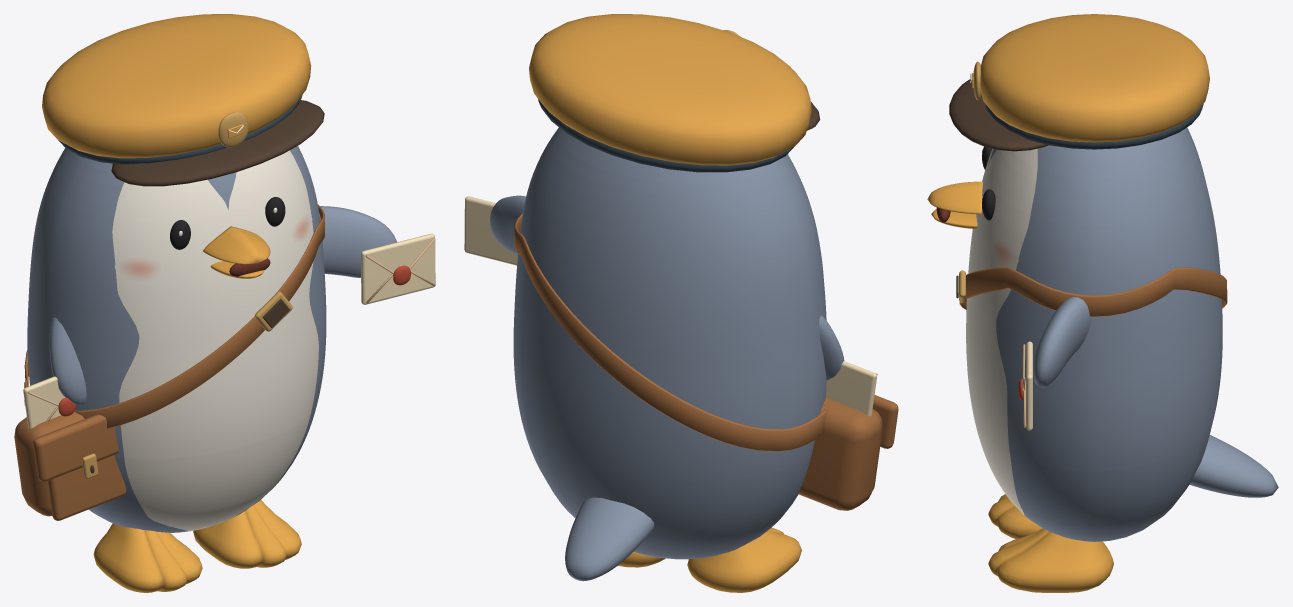
The model's file is post-penguin-low.glb.
3 views of the same model, side by side, from view 1: azimuth 30°, elevation 25°; view 2: azimuth 150°, elevation 25°; view 3: azimuth 270°, elevation 25° (orthographic). The views are drawn at different scales.
Parts seen in each view (by area): view 1: Penguin continuous body and heart mask, Cap.Ochre postal cap.batch, Bag.Cognac postal leather.batch, Dark curved peak, Continuous webbed foot L, Postal shoulder strap, Continuous webbed foot R, Delivered letter paper, Flipper.R, Beak.penguin accent.batch, Flipper.L, BodyRig.Soft integrated cheek tint.batch (+4 smaller); view 2: Penguin continuous body and heart mask, Cap.Ochre postal cap.batch, Postal shoulder strap, Bag.Cognac postal leather.batch, Penguin rooted tapered tail, Continuous webbed foot L, Delivered letter paper, Navy cap band, Letter in satchel paper, Flipper.R, Flipper.L; view 3: Penguin continuous body and heart mask, Cap.Ochre postal cap.batch, Continuous webbed foot R, Postal shoulder strap, Penguin rooted tapered tail, Flipper.R, Dark curved peak, Beak.penguin accent.batch, Navy cap band, Continuous webbed foot L, Delivered letter paper, BodyRig.Soft integrated cheek tint.batch (+1 smaller).
Boxes of the visible parts, left/top/right/bottom form: Penguin continuous body and heart mask: left=27, top=146, right=326, bottom=532; Cap.Ochre postal cap.batch: left=42, top=14, right=311, bottom=158; Bag.Cognac postal leather.batch: left=14, top=411, right=126, bottom=520; Dark curved peak: left=111, top=100, right=324, bottom=186; Continuous webbed foot L: left=93, top=523, right=202, bottom=592; Postal shoulder strap: left=24, top=204, right=324, bottom=428; Continuous webbed foot R: left=193, top=500, right=301, bottom=568; Delivered letter paper: left=361, top=233, right=435, bottom=304; Flipper.R: left=319, top=206, right=396, bottom=277; Beak.penguin accent.batch: left=203, top=226, right=270, bottom=278; Flipper.L: left=49, top=317, right=86, bottom=405; BodyRig.Soft integrated cheek tint.batch: left=114, top=207, right=312, bottom=281; Penguin continuous body and heart mask: left=513, top=127, right=826, bottom=559; Cap.Ochre postal cap.batch: left=529, top=14, right=811, bottom=165; Postal shoulder strap: left=514, top=213, right=828, bottom=451; Bag.Cognac postal leather.batch: left=798, top=395, right=898, bottom=510; Penguin rooted tapered tail: left=565, top=497, right=654, bottom=581; Continuous webbed foot L: left=687, top=527, right=801, bottom=592; Delivered letter paper: left=464, top=196, right=517, bottom=265; Navy cap band: left=538, top=99, right=794, bottom=172; Letter in satchel paper: left=825, top=361, right=876, bottom=416; Flipper.R: left=490, top=195, right=526, bottom=254; Flipper.L: left=819, top=315, right=844, bottom=380; Penguin continuous body and heart mask: left=966, top=127, right=1222, bottom=541; Cap.Ochre postal cap.batch: left=972, top=14, right=1209, bottom=142; Continuous webbed foot R: left=988, top=528, right=1113, bottom=592; Postal shoulder strap: left=959, top=266, right=1227, bottom=316; Penguin rooted tapered tail: left=1189, top=435, right=1278, bottom=497; Flipper.R: left=1033, top=297, right=1091, bottom=387; Dark curved peak: left=949, top=79, right=1048, bottom=151; Beak.penguin accent.batch: left=927, top=181, right=982, bottom=228; Navy cap band: left=985, top=103, right=1203, bottom=149; Continuous webbed foot L: left=988, top=494, right=1042, bottom=538; Delivered letter paper: left=1026, top=341, right=1032, bottom=430; BodyRig.Soft integrated cheek tint.batch: left=982, top=149, right=1018, bottom=267.
Bounding box in the file's own units: 1.23 × 1.46 × 0.8963.
